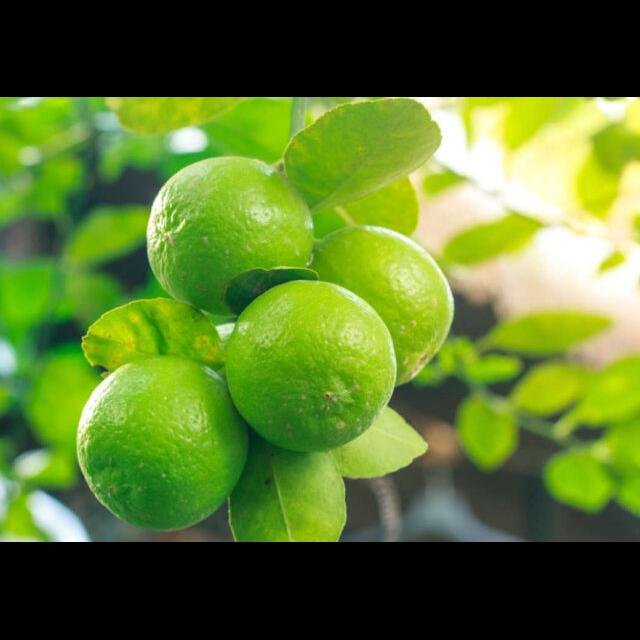lime: (223, 282, 392, 450), (84, 360, 247, 530), (148, 156, 314, 316), (312, 228, 451, 392)
